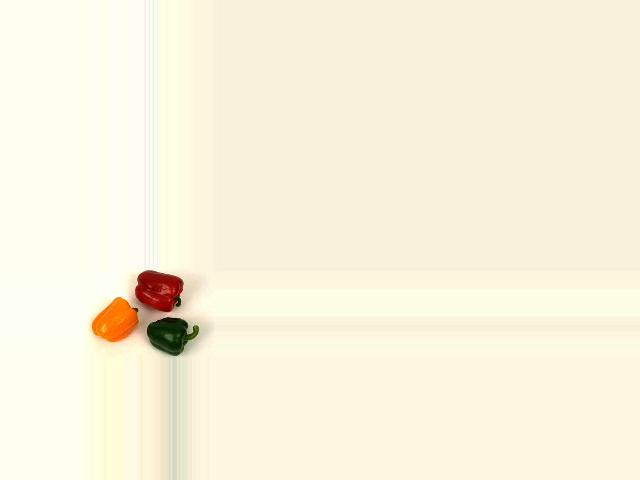bell_pepper: (146, 315, 200, 356)
